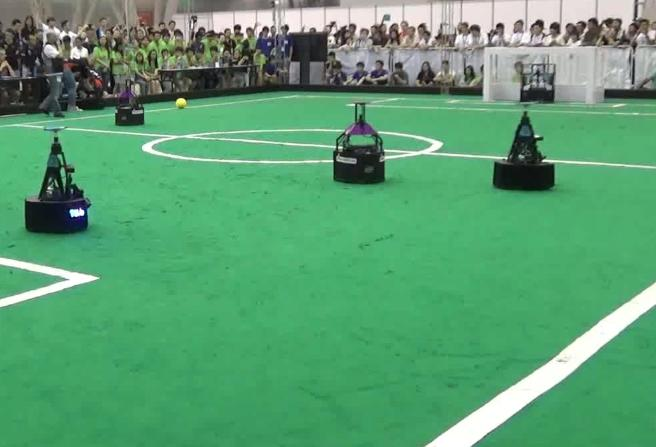robot: (20, 123, 95, 234), (489, 99, 558, 193), (329, 98, 388, 185), (113, 74, 147, 127)
